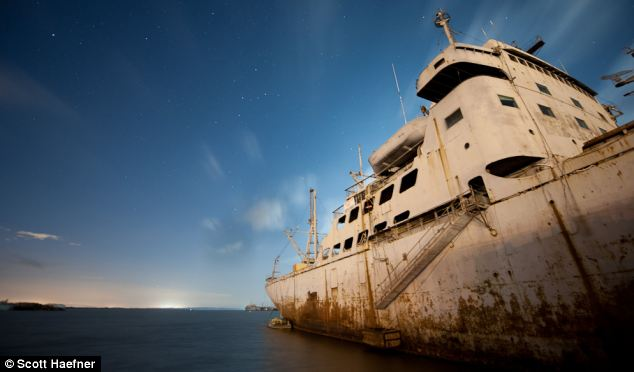rust: (408, 299, 611, 364), (269, 294, 361, 338)
